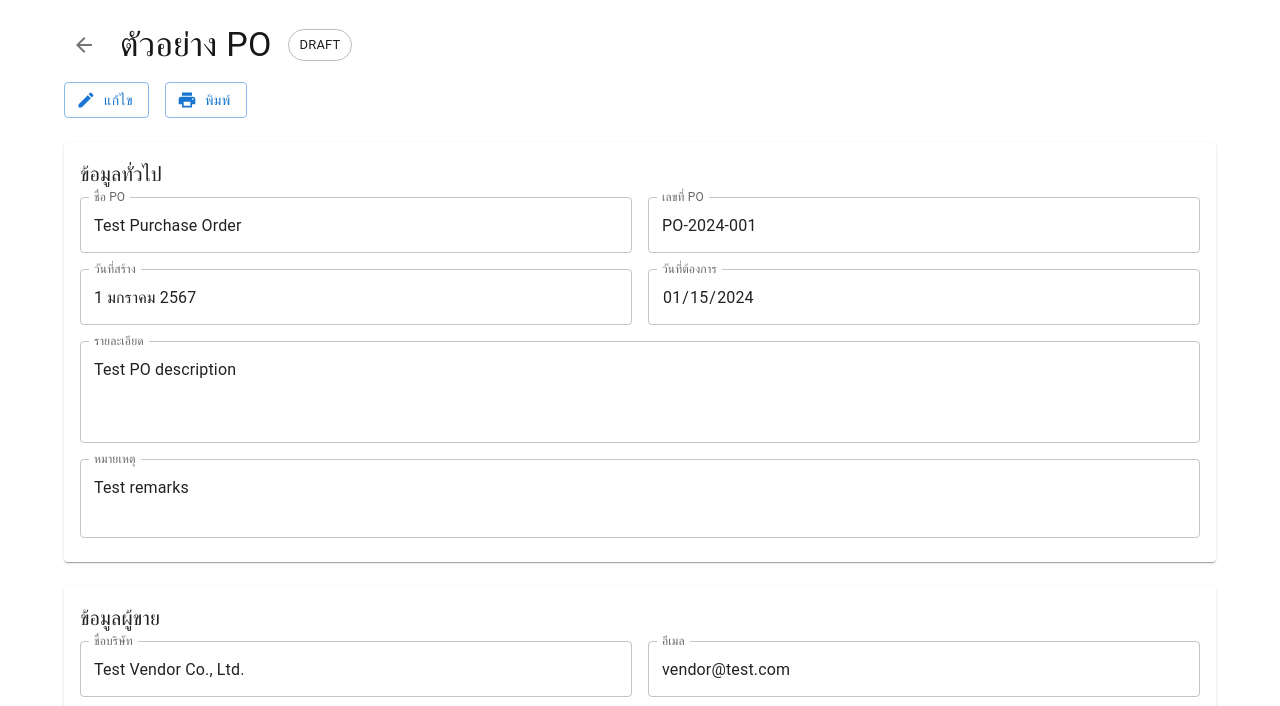
Test: POEditPreview Component › Save Functionality › shows confirmation dialog when saving
# Enter edit mode and modify
Click the button "แก้ไข" at (106, 100), box [64,82,149,118]
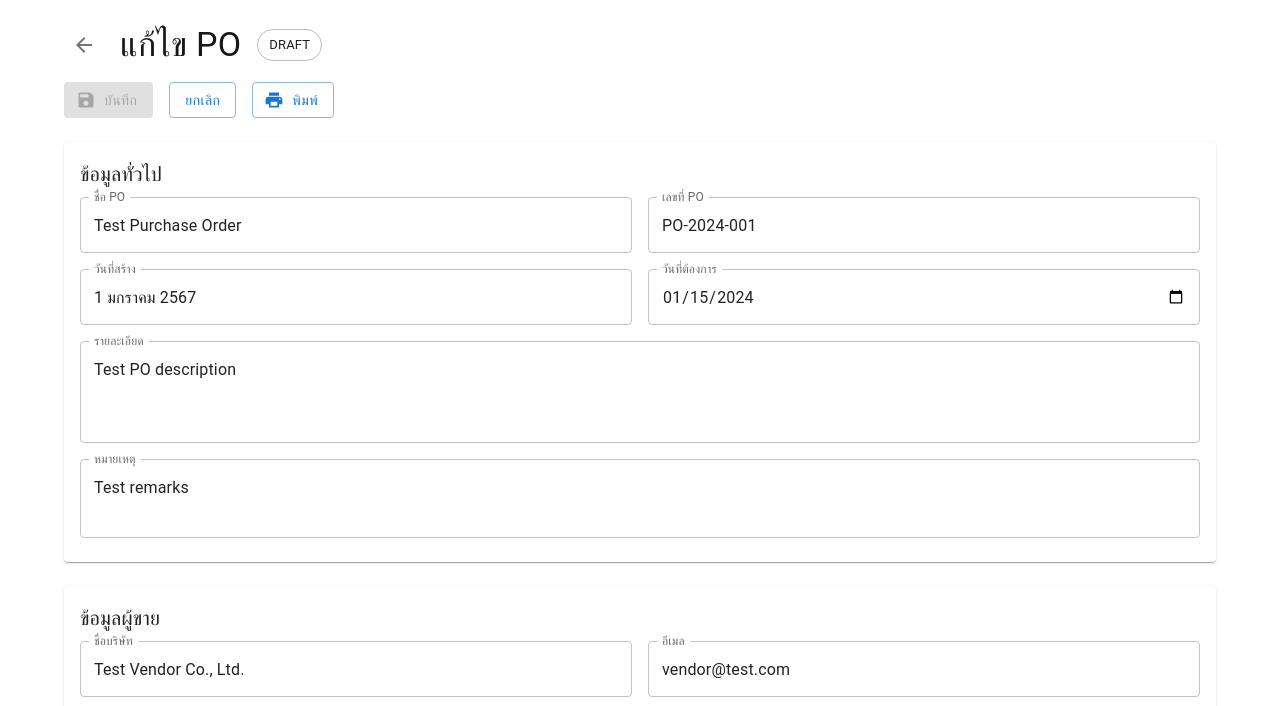
Replace the text in the field showing "Test Purchase Order" with "Modified Title" at (356, 226), box [80,198,632,254]
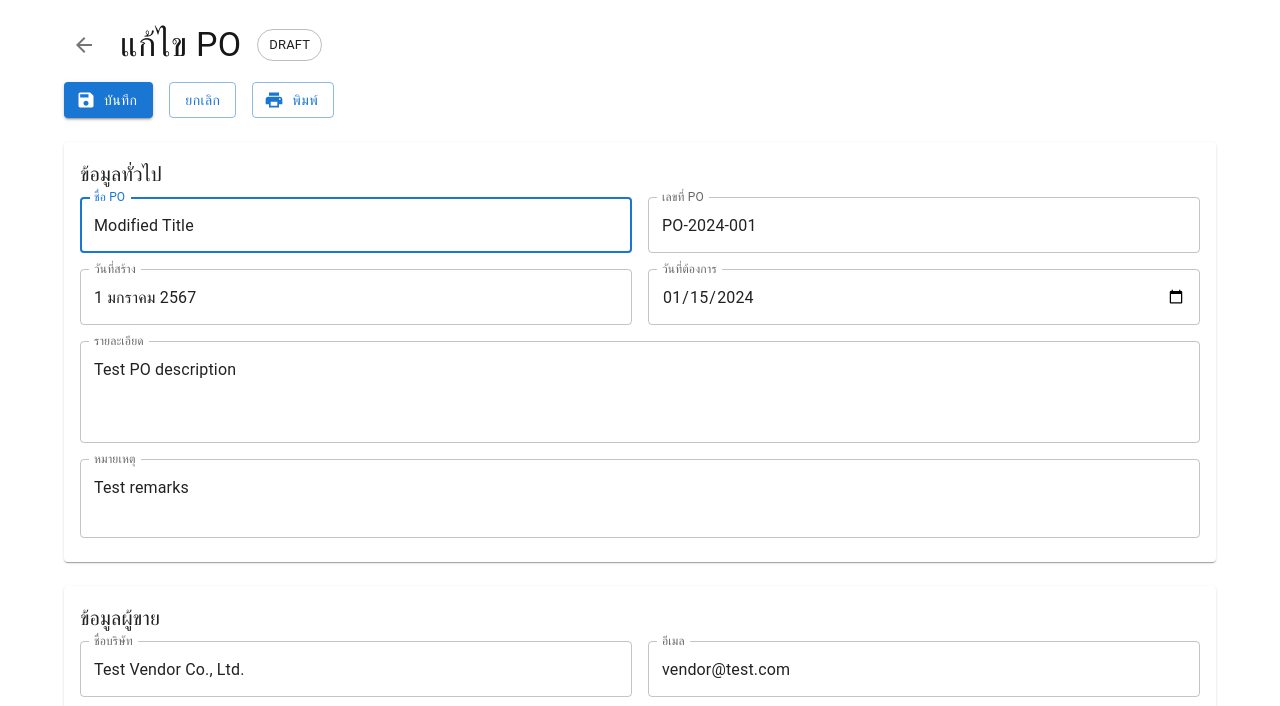
# Click save
Click the button "บันทึก" at (109, 100), box [64,82,153,118]
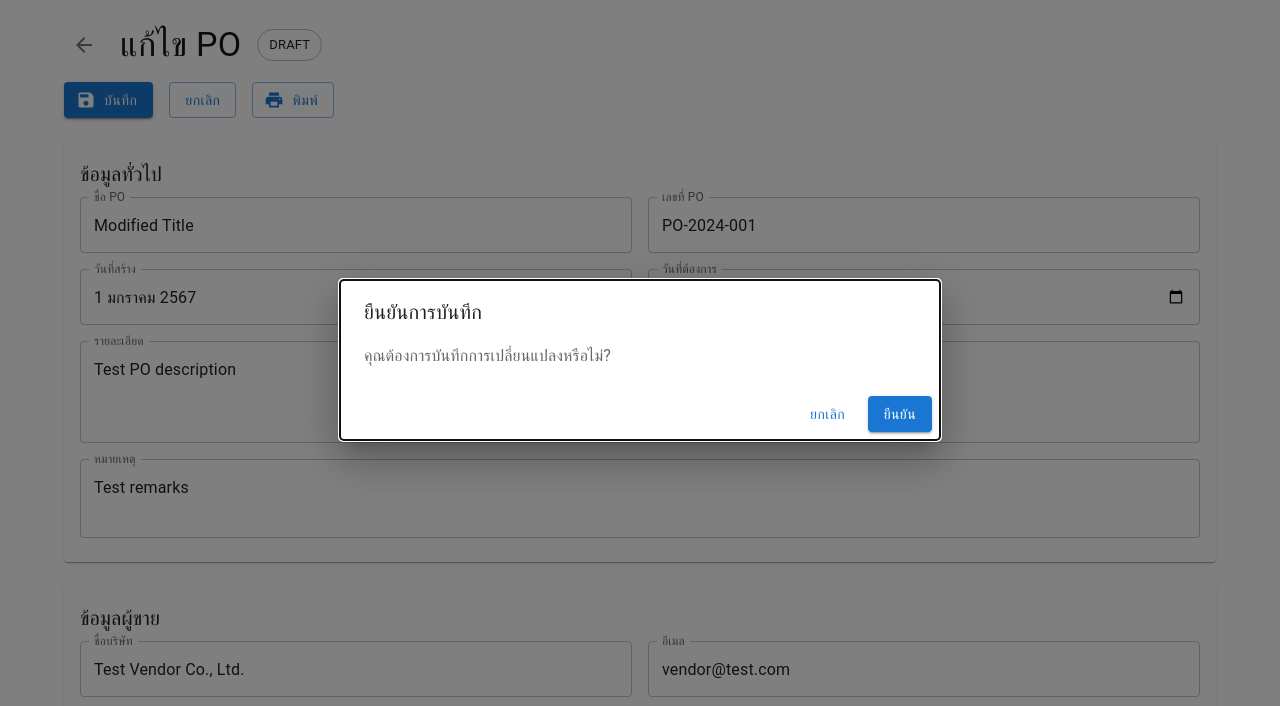
expect the heading "ยืนยันการบันทึก" is shown: met, box [364,300,482,324]
expect the text "คุณต้องการบันทึกการเปลี่ยนแปลงหรือไม่?" is shown: met, box [364,346,611,365]
